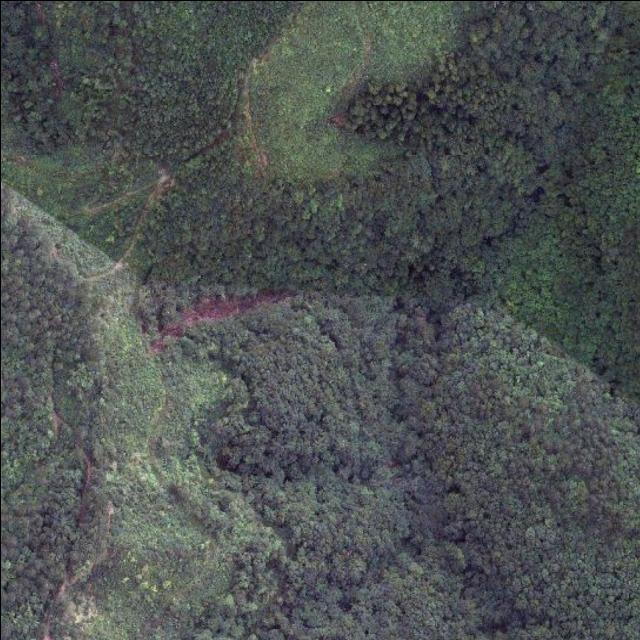landslide: (139, 288, 298, 353)
